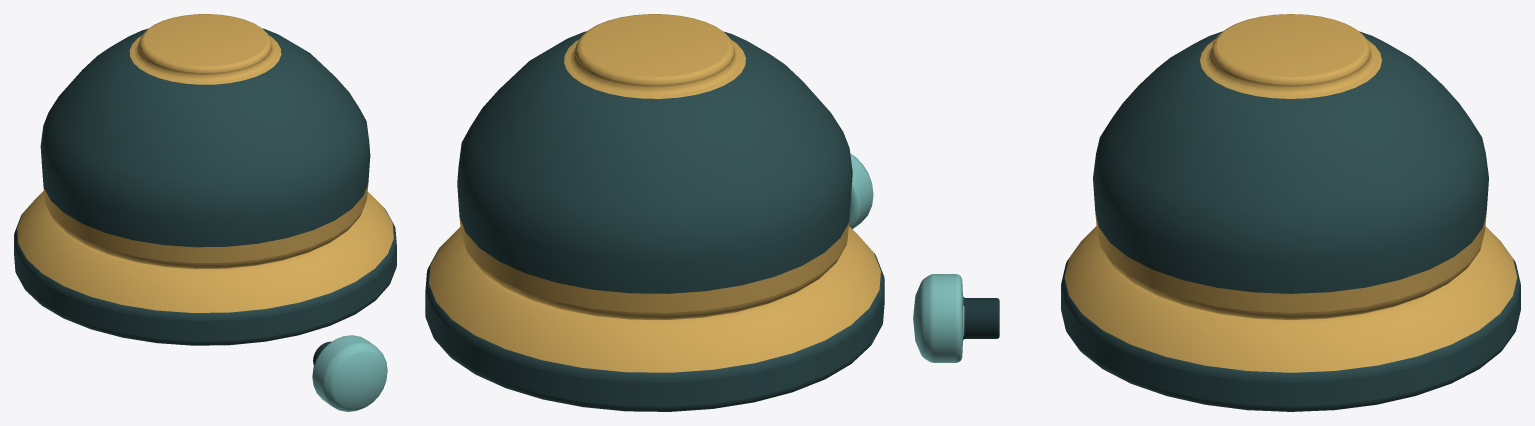
Rendered from prop_counter_bell.fbx.
The picture shows the model from 3 angles, left to right: view 1: azimuth 30°, elevation 25°; view 2: azimuth 150°, elevation 25°; view 3: azimuth 270°, elevation 25°; orthographic projection. The views are drawn at different scales.
Visible parts, largest first — view 1: Bell_Dome, Bell_Base, Bell_Plunger; view 2: Bell_Dome, Bell_Base, Bell_Plunger; view 3: Bell_Dome, Bell_Base, Bell_Plunger.
Part boxes in pixels (box(x1,y1,x2,y2)): Bell_Dome: box(40, 14, 370, 269); Bell_Base: box(14, 191, 396, 345); Bell_Plunger: box(312, 335, 387, 411); Bell_Dome: box(457, 14, 852, 320); Bell_Base: box(425, 226, 884, 411); Bell_Plunger: box(849, 153, 873, 228); Bell_Dome: box(1093, 14, 1488, 320); Bell_Base: box(1061, 226, 1520, 411); Bell_Plunger: box(913, 274, 999, 362).
Size of the model in its own units: 1.01 by 0.766 by 1.33.
